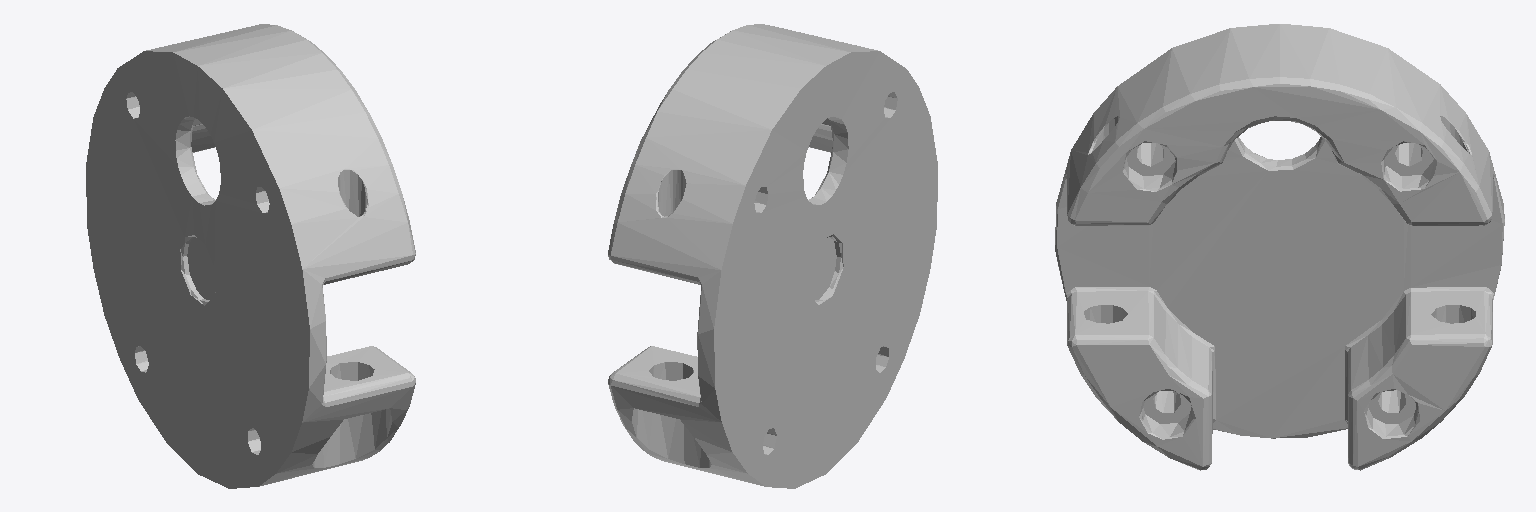
The picture shows the model from 3 angles: view 1: azimuth 30°, elevation 25°; view 2: azimuth 150°, elevation 25°; view 3: azimuth 270°, elevation 25°; orthographic projection.
Visible parts, largest first — view 1: RS1-124; view 2: RS1-124; view 3: RS1-124.
Part boxes in pixels (bbox=[...]): RS1-124: bbox=[86, 24, 415, 488]; RS1-124: bbox=[608, 24, 937, 488]; RS1-124: bbox=[1055, 24, 1504, 470].
Size of the model in its own units: 0.0119 by 0.0401 by 0.04.